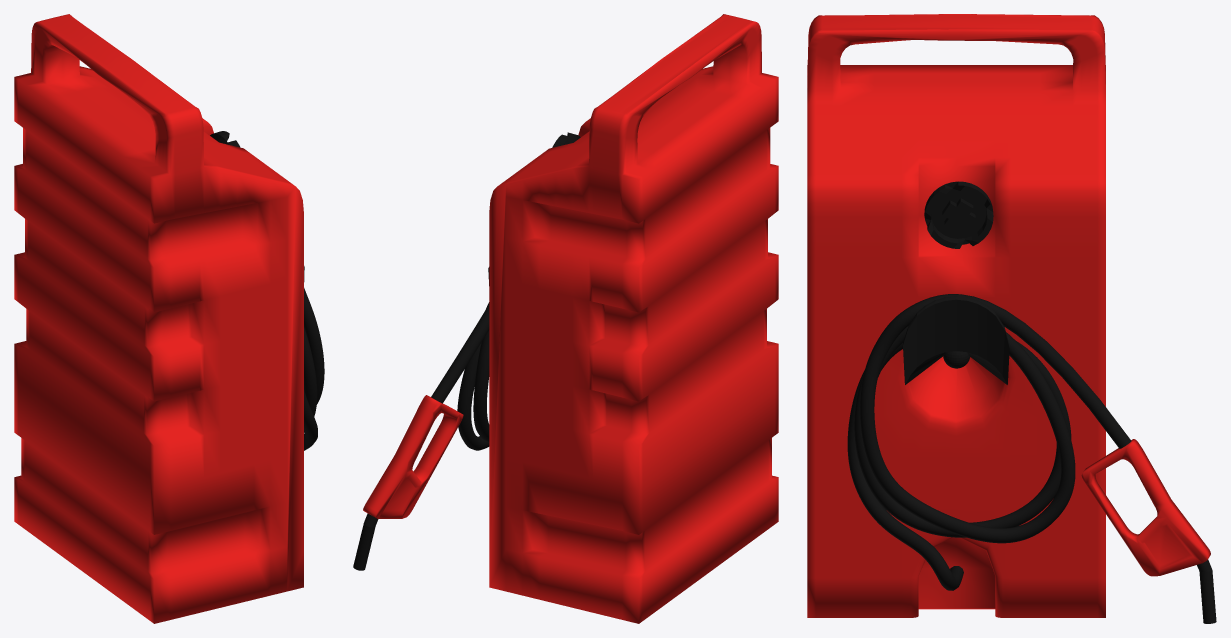
The model's file is handheld fuel tank.fbx.
The picture shows the model from 3 angles, left to right: view 1: azimuth 30°, elevation 25°; view 2: azimuth 150°, elevation 25°; view 3: azimuth 270°, elevation 25°; orthographic projection. The views are drawn at different scales.
Parts seen in each view (by area): view 1: handheld fuel tank body, handheld fuel tank hose; view 2: handheld fuel tank body, handheld fuel tank hose; view 3: handheld fuel tank body, handheld fuel tank hose.
Part boxes in pixels (x1=…): handheld fuel tank body: x1=14, y1=14, x2=304, y2=623; handheld fuel tank hose: x1=304, y1=288, x2=324, y2=450; handheld fuel tank body: x1=353, y1=14, x2=778, y2=623; handheld fuel tank hose: x1=431, y1=302, x2=489, y2=450; handheld fuel tank body: x1=807, y1=14, x2=1216, y2=623; handheld fuel tank hose: x1=847, y1=294, x2=1131, y2=590.
Size of the model in its own units: 195 by 397 by 274.
